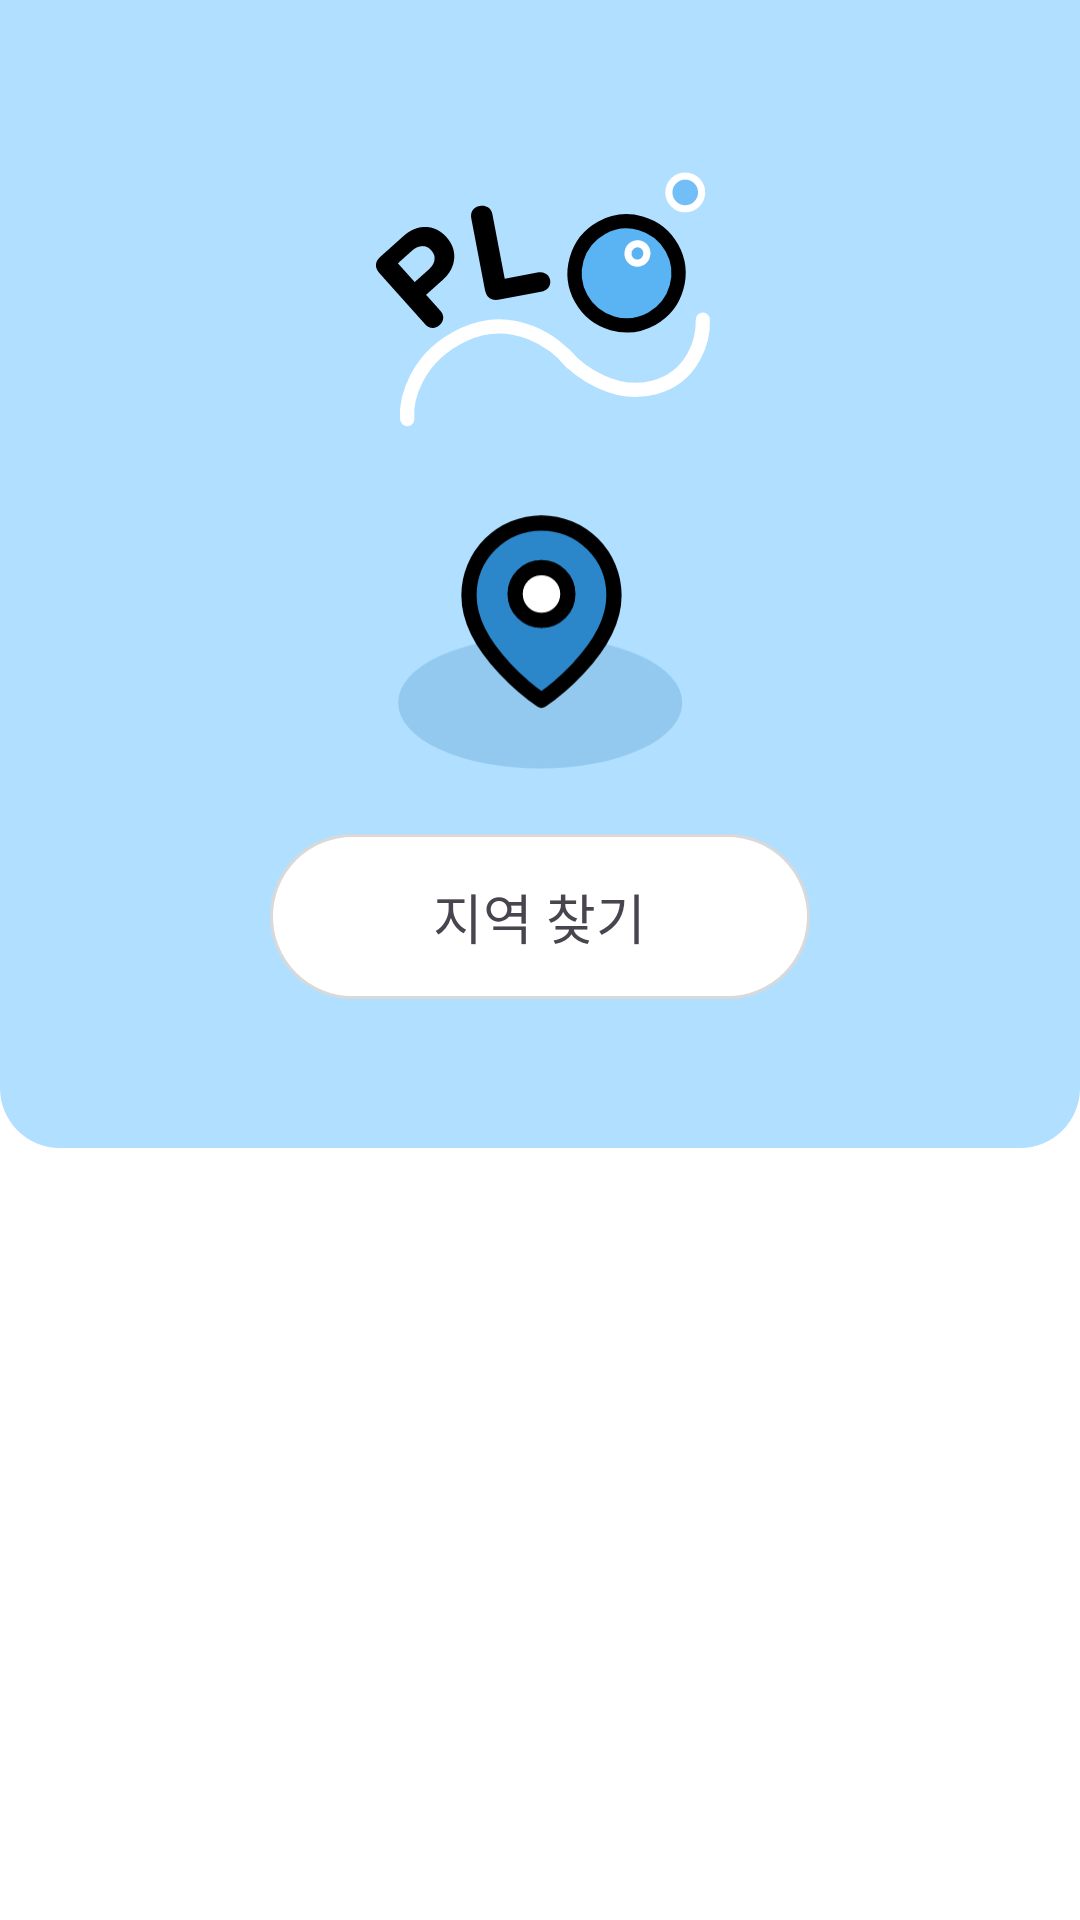

Icon bounding boxes for this 1080x1920 phone screenshot, format (x1, y1, x2, y2):
volunteer map pin: (399, 515, 682, 768)
